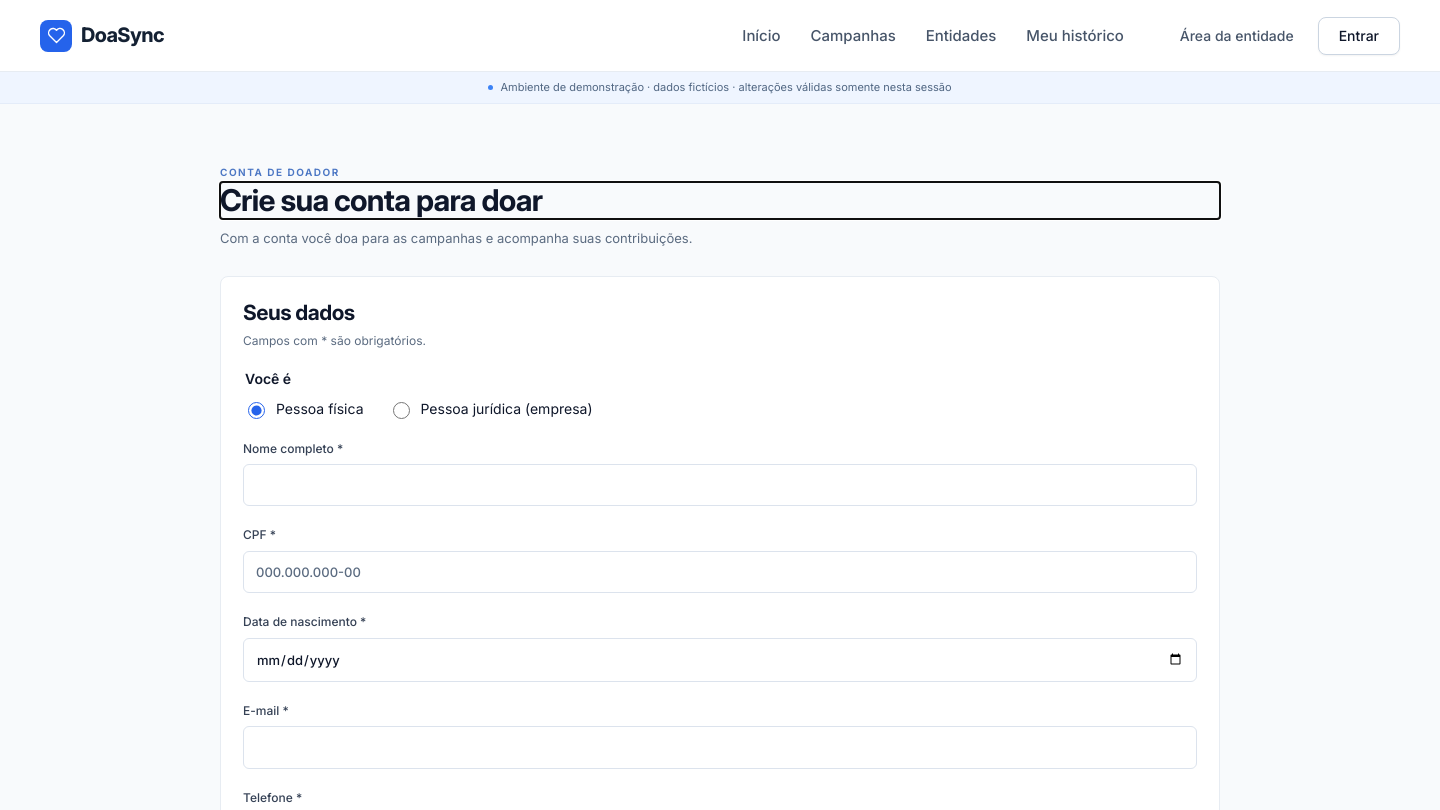
Test: tela de cadastro de doador › não envia com dados inválidos e marca os campos
The image size is (1440, 810).
Expected: the heading "Crie sua conta para doar" is shown, [220,182,542,218]
Type "123" into the field labelled "CPF *" at (720, 572), box [243,551,1197,593]
(page scrolled)
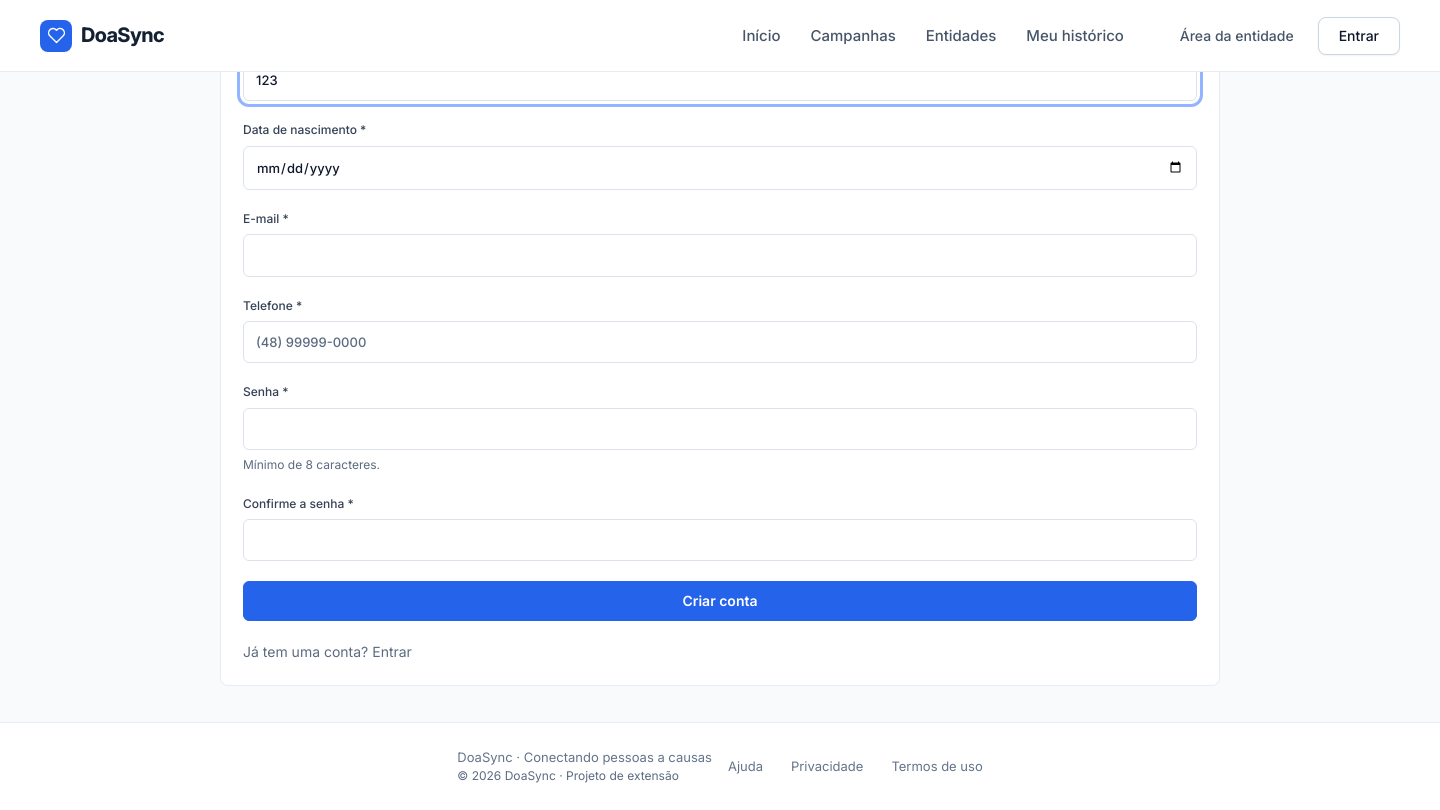
Click the button "Criar conta" at (720, 601), box [243,581,1197,621]
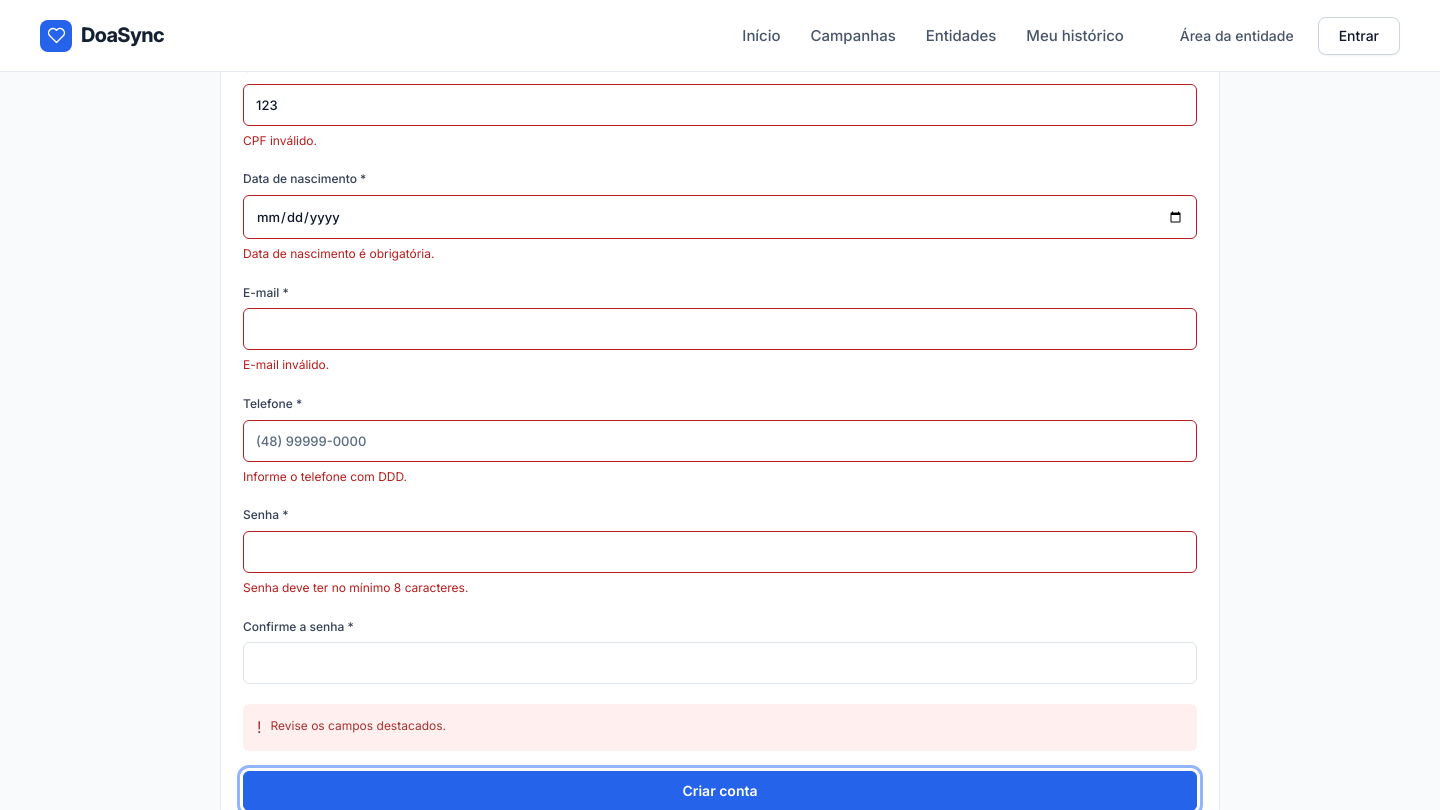
Expected: the message shows "Revise os campos", [270,718,446,733]
Expected: the text "CPF inválido." is shown, [243,133,317,148]
